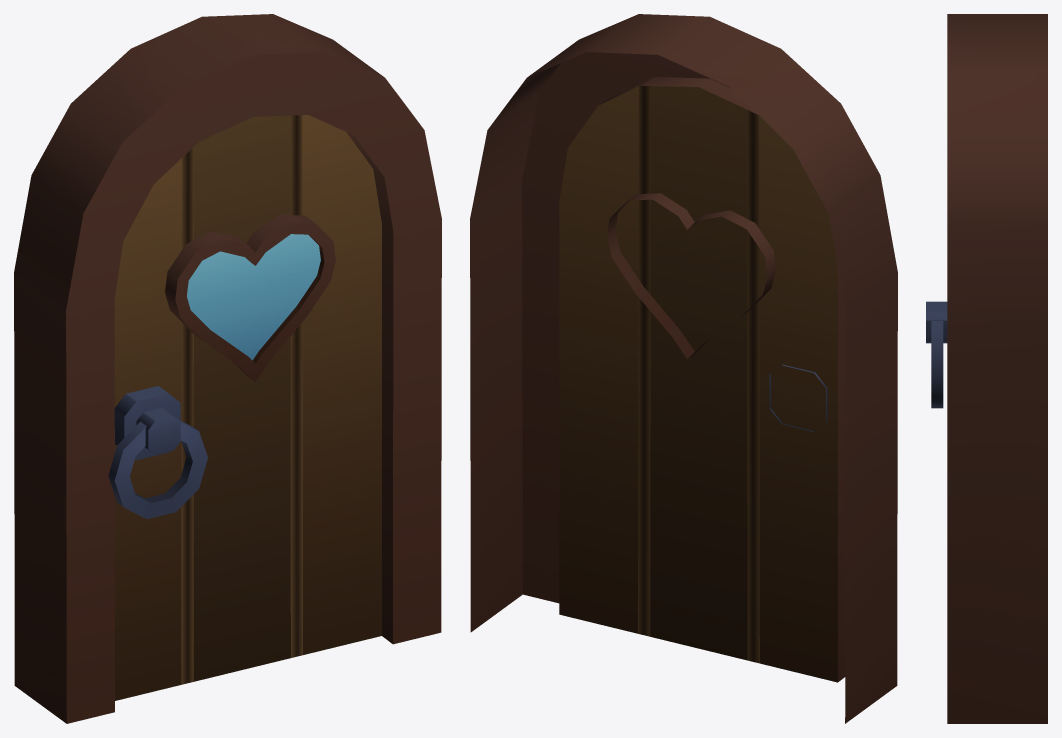
The model's file is Door_02C.fbx.
The picture shows the model from 3 angles, left to right: view 1: azimuth 30°, elevation 25°; view 2: azimuth 150°, elevation 25°; view 3: azimuth 270°, elevation 25°; orthographic projection. The views are drawn at different scales.
Visible parts, largest first — view 1: Door_02C; view 2: Door_02C; view 3: Door_02C.
Boxes of the visible parts, bbox=[...] form: Door_02C: bbox=[14, 14, 441, 723]; Door_02C: bbox=[470, 14, 897, 723]; Door_02C: bbox=[926, 14, 1047, 723].
Bounding box in the file's own units: 156 × 247 × 45.35.
Materials: 3 (3 with a texture image).
